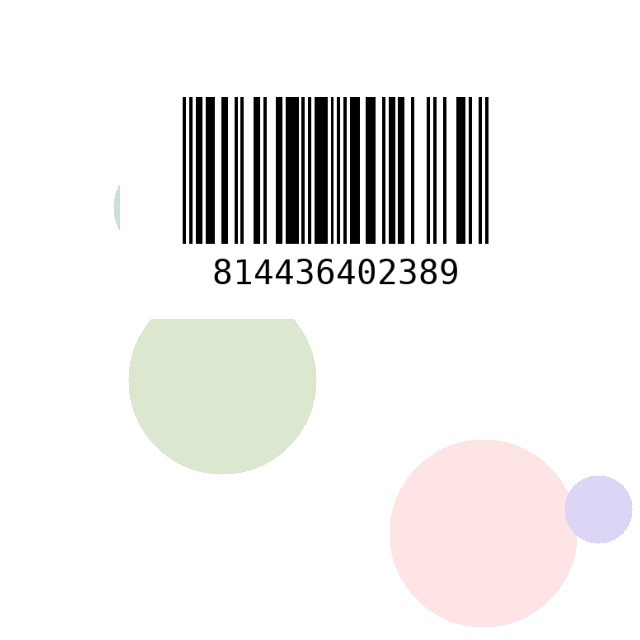barcode: (120, 88, 551, 319)
